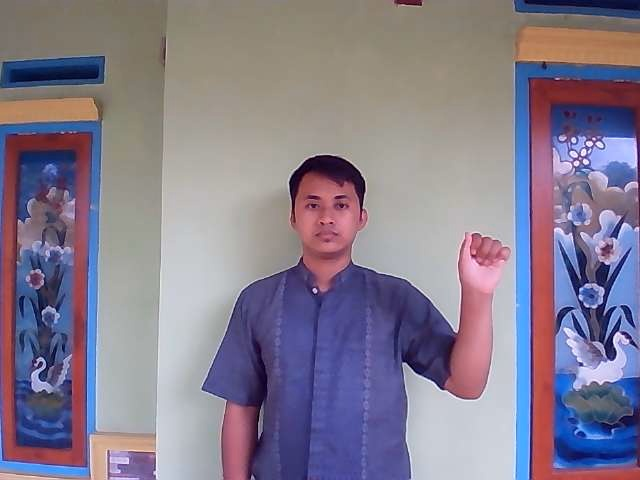A: (454, 231, 512, 289)
